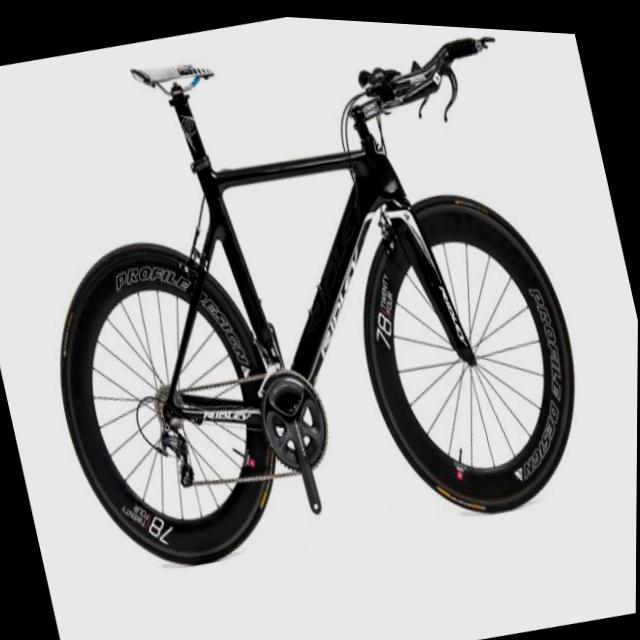TT-bike: (0, 0, 615, 608)
